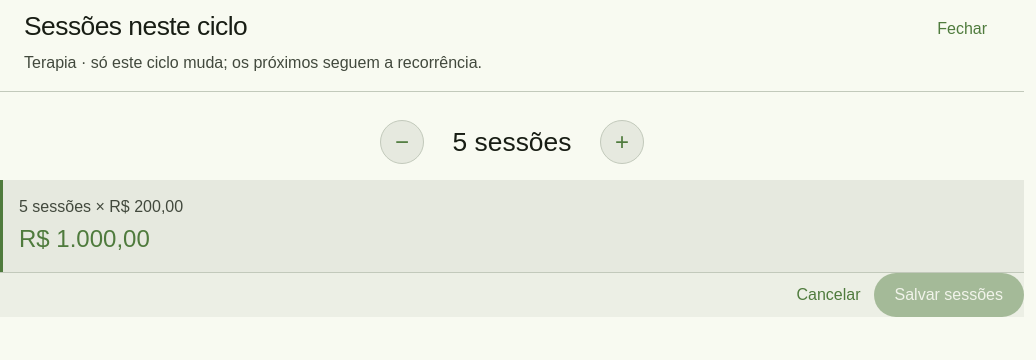
Scenario: AdjustOccurrencesDialogComponent › recalculates the total as sessions change and saves only this cycle
Check: the button "Salvar sessões" is disabled, box [874,273,1024,317]
Click the button "−".
click(402, 142)  # box [380,120,424,164]
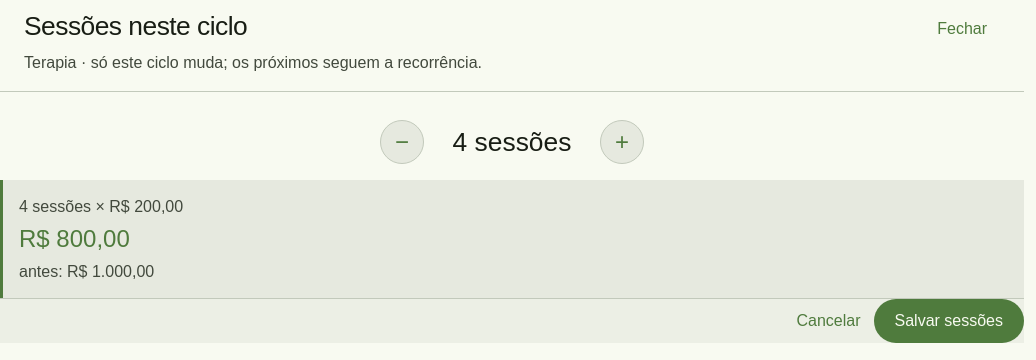
Click the button "−".
click(402, 142)  # box [380,120,424,164]
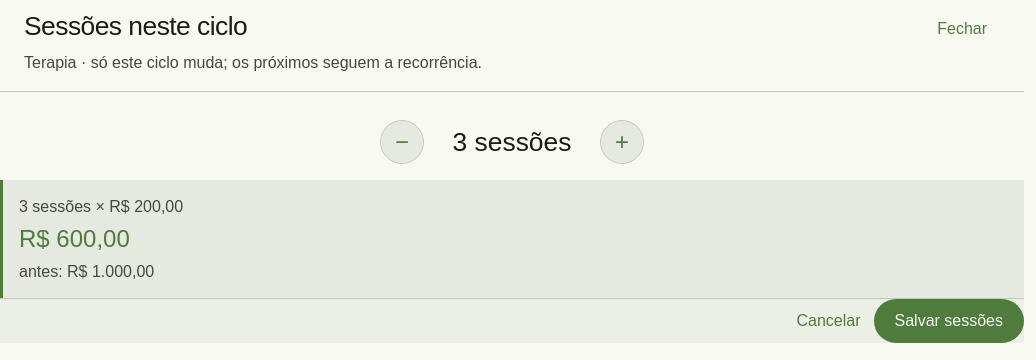
Check: the text "antes: R$ 1.000,00" is shown, box [19,263,154,280]
Check: the text "3 sessões" is shown, box [448,123,576,162]
Check: the text "R$ 600,00" is shown, box [19,225,130,252]
